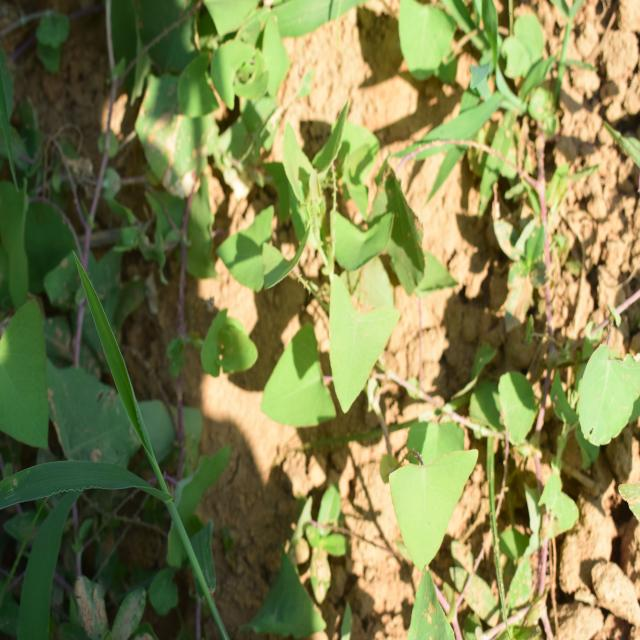Asiatic_Smartweed: (210, 106, 414, 422), (366, 382, 489, 566), (570, 318, 640, 472)
